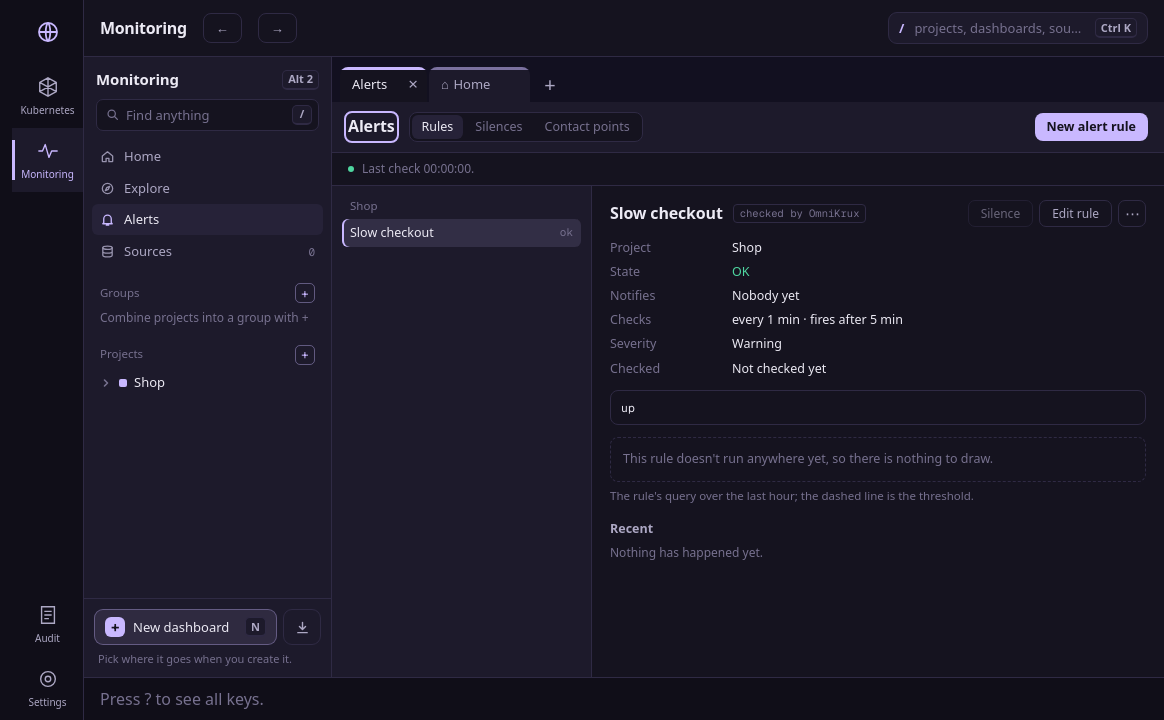
Test: leaving an alert rule being written › an untouched form never asks
Expected: the heading "Slow checkout" is shown, [610,202,723,225]
Click the button "New alert rule". click: (1091, 127)
box: [1034,113,1148,141]
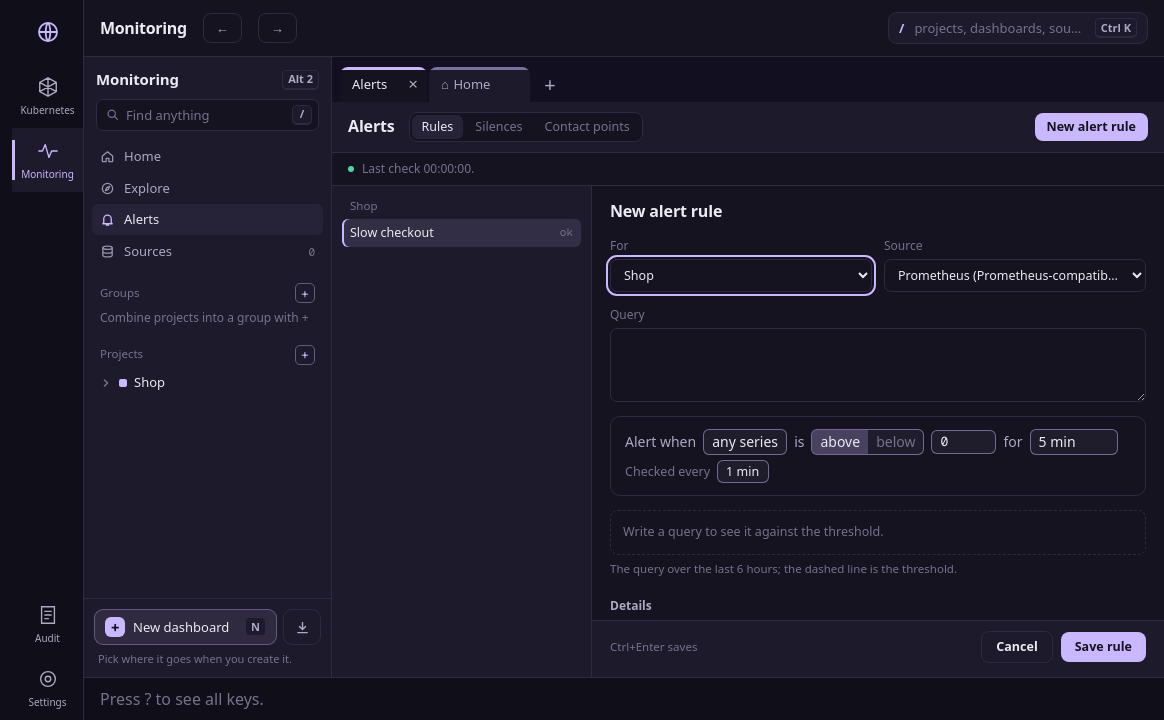
Click the tab "⌂ Home". click: (466, 84)
box: [429,67,502,102]
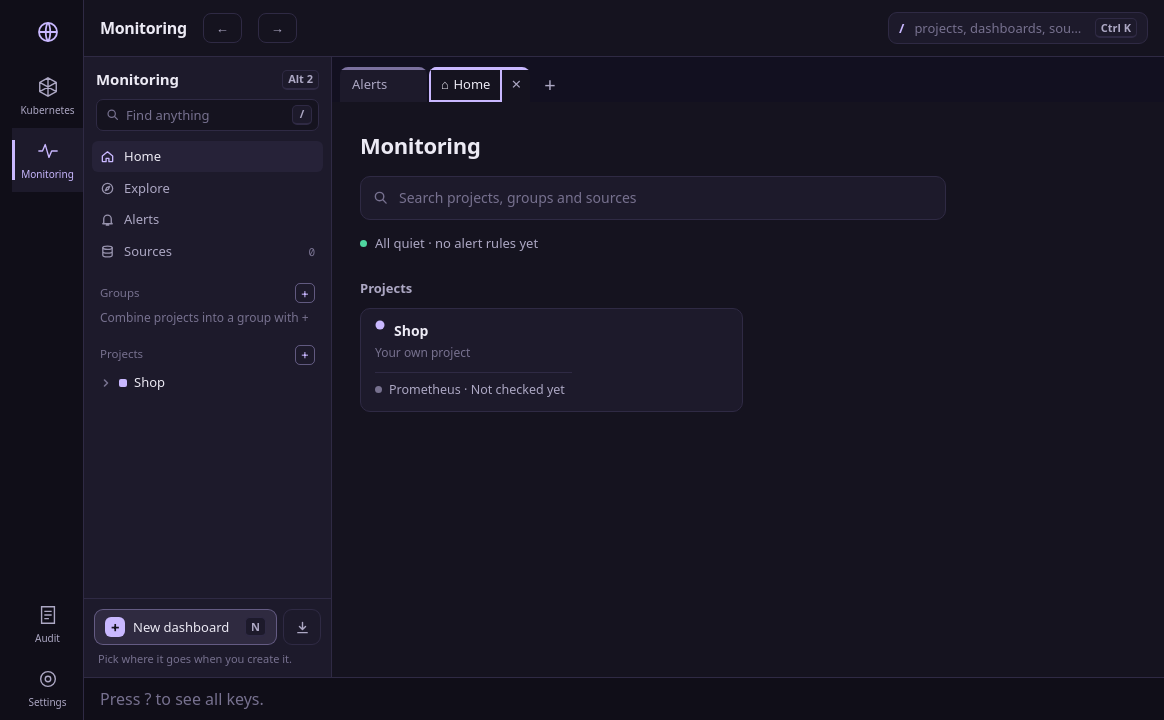
Click the tab "Alerts". click: (370, 84)
box: [340,67,399,102]
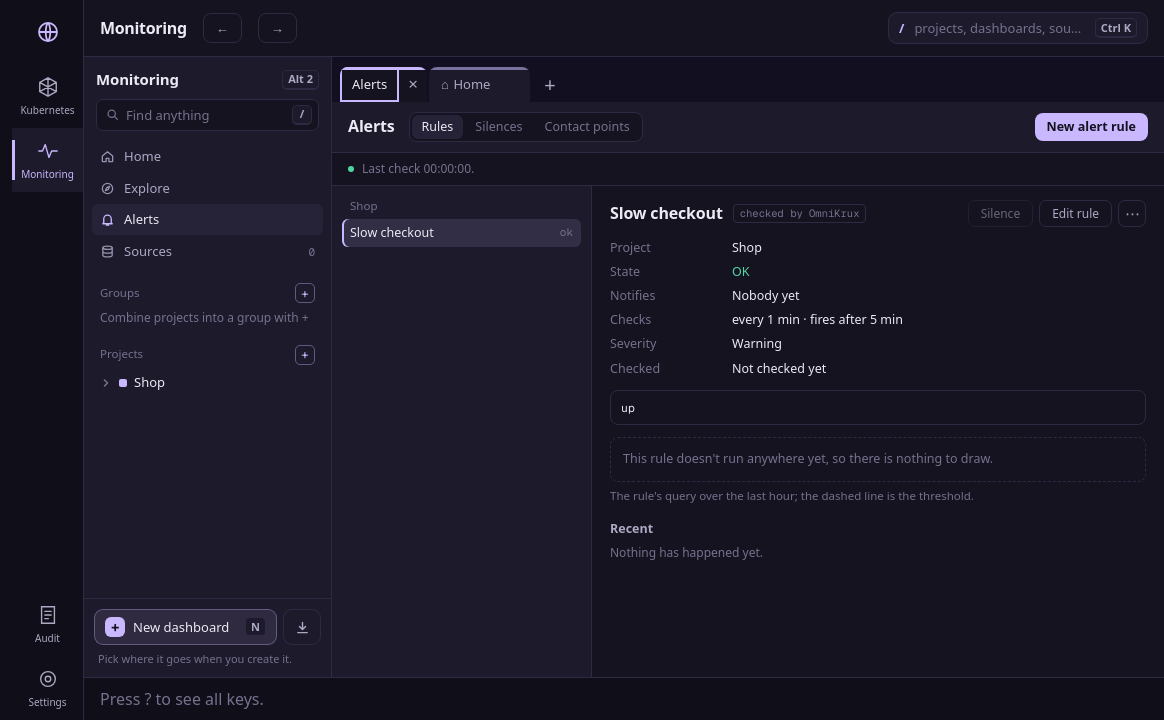
Now the heading "Slow checkout" is shown, box [610,202,723,225]
Click the button "New alert rule". click: (1091, 127)
box: [1034,113,1148,141]
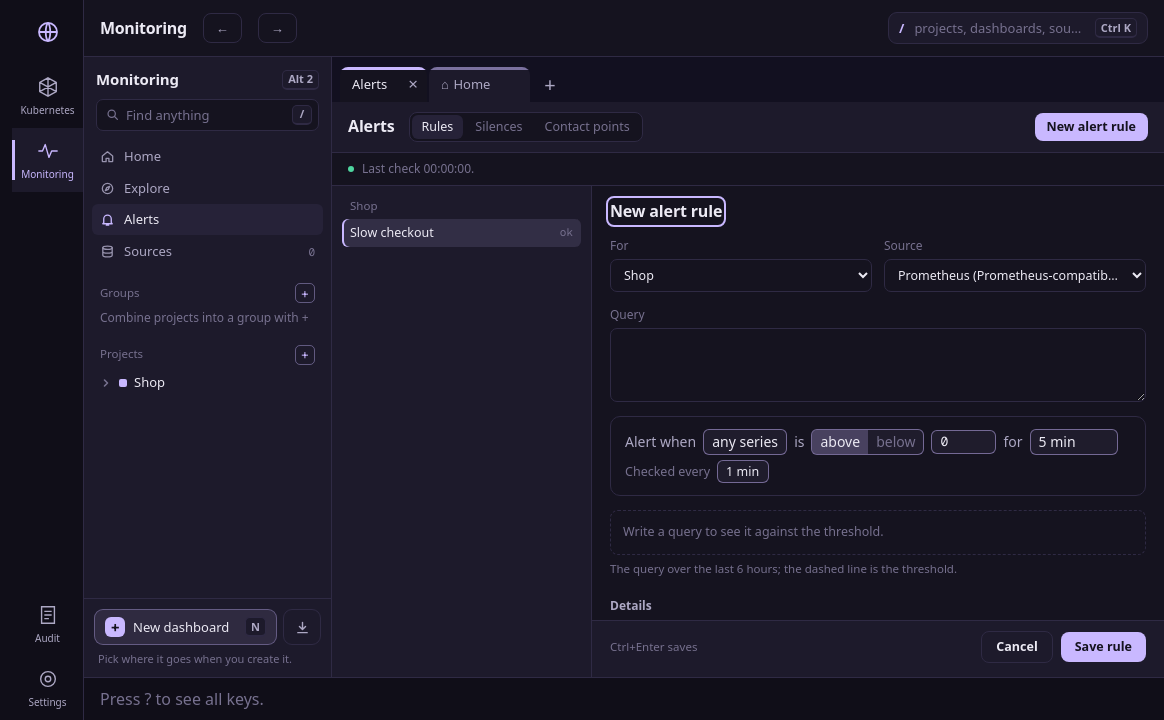
Now the field labelled "Name" is shown, box [610,651,1146,677]
Press ArrowLeft in the heading "New alert rule", box [610,200,722,223]
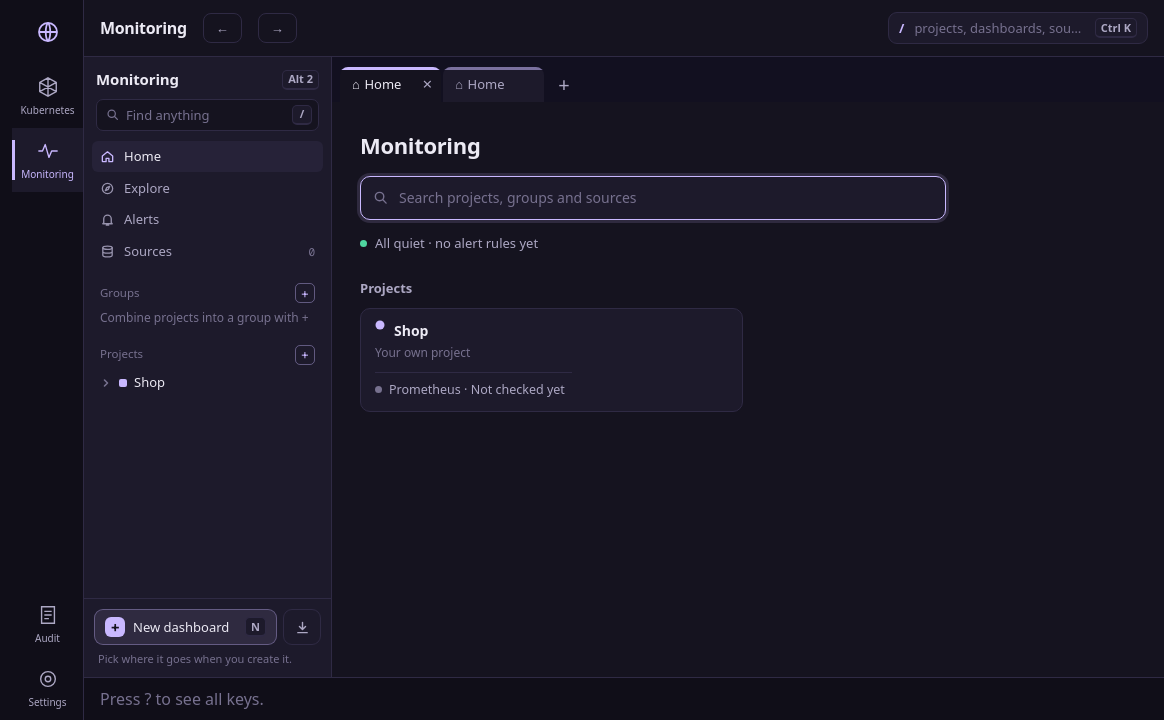
Click the list item "Shop". click: (133, 382)
box: [101,373,165,391]
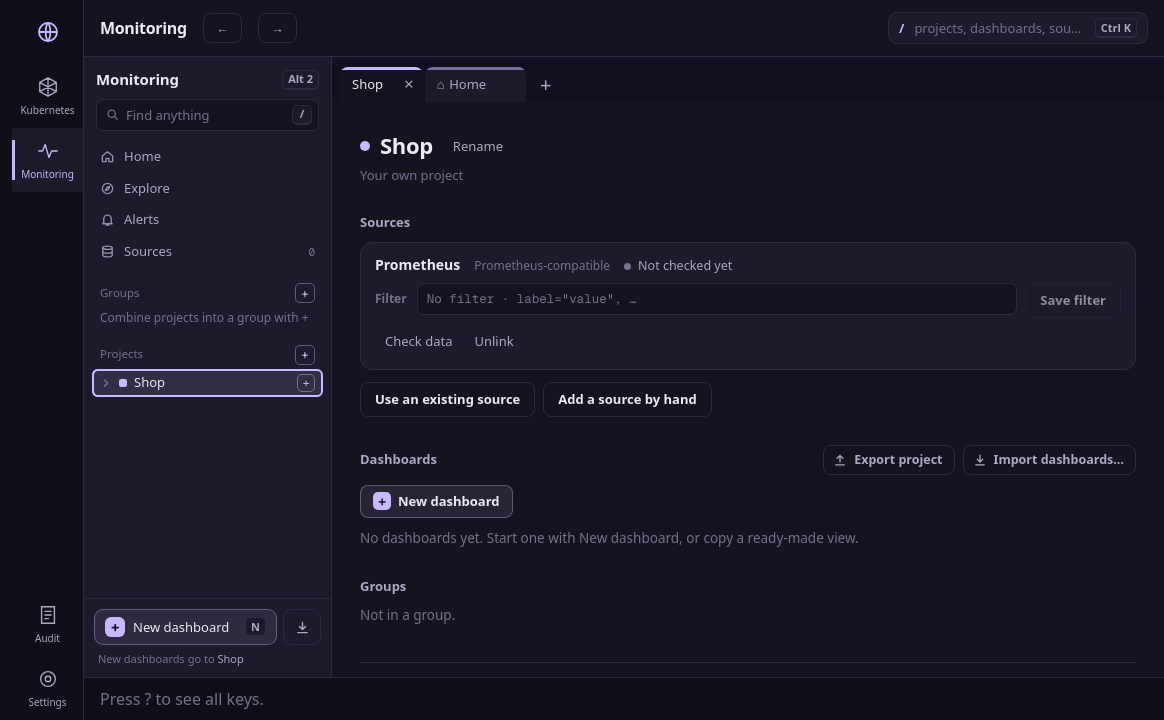
Now the heading "Shop" is shown, box [380,130,433,162]
